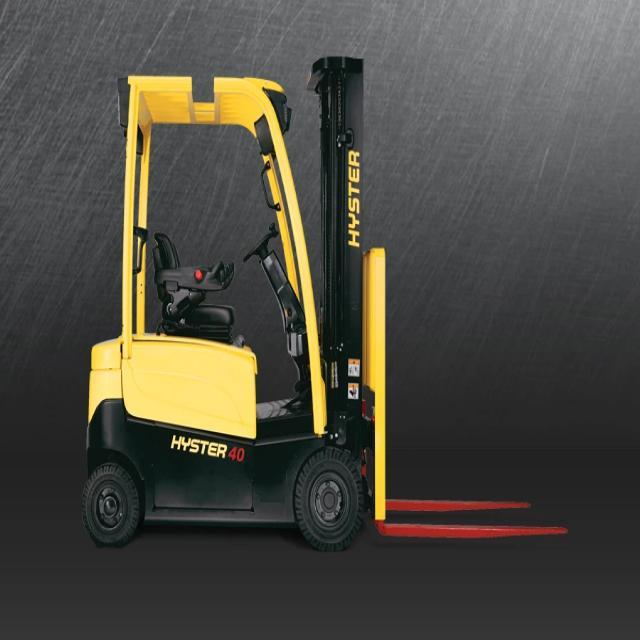forklift: (74, 24, 412, 564)
